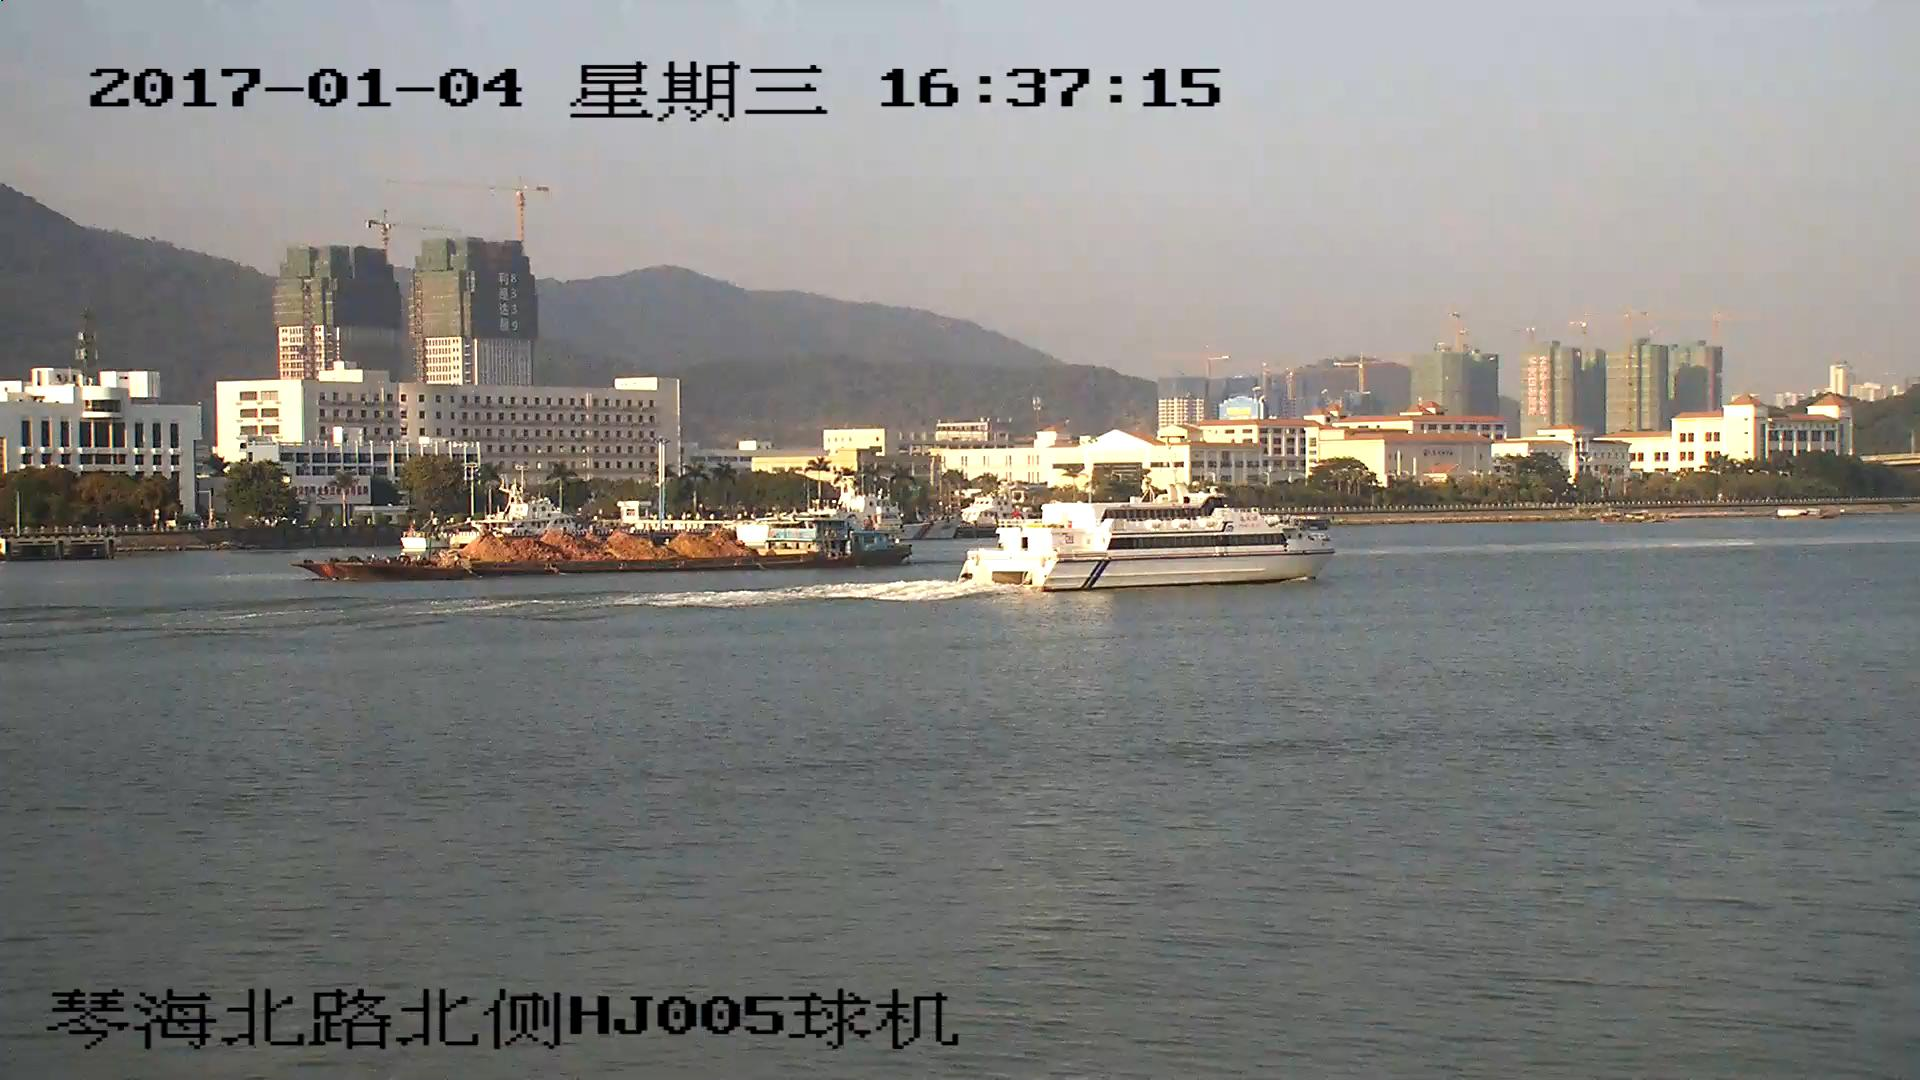ore carrier: (304, 504, 910, 580)
passenger ship: (962, 458, 1324, 588)
